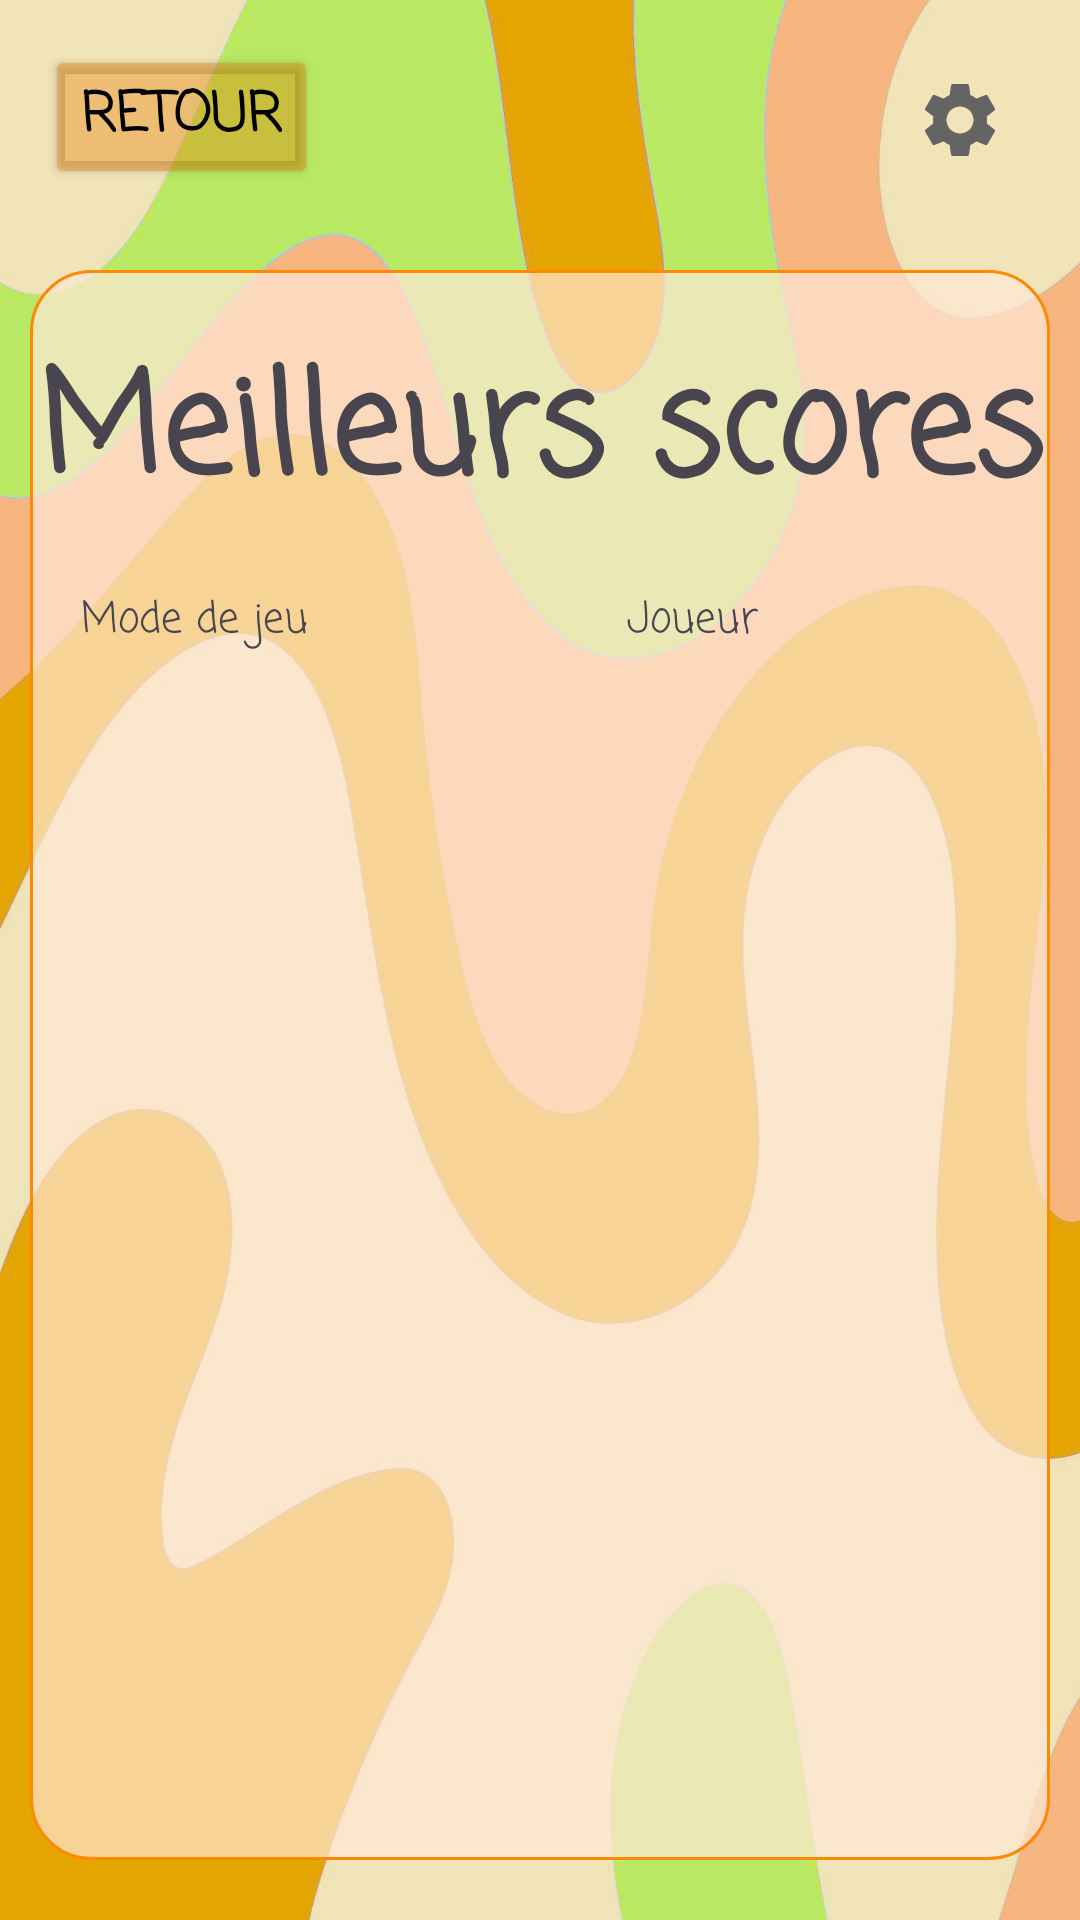

Named icons in this screenshot (1080w x 1920h) and their centers, point (x, y):
Parameters: point (960, 120)
